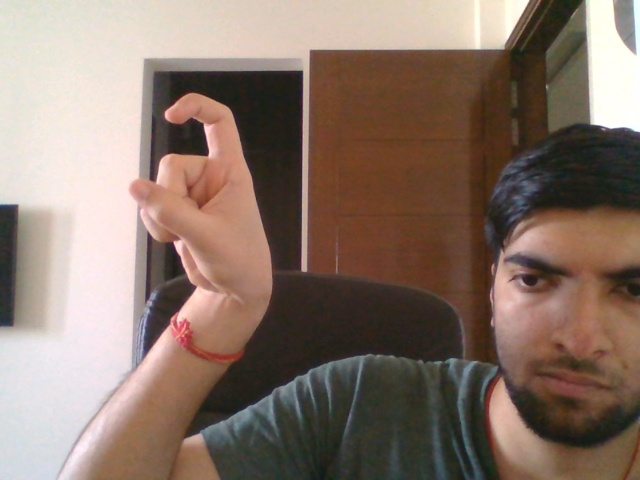LetterZ: (127, 88, 276, 301)
